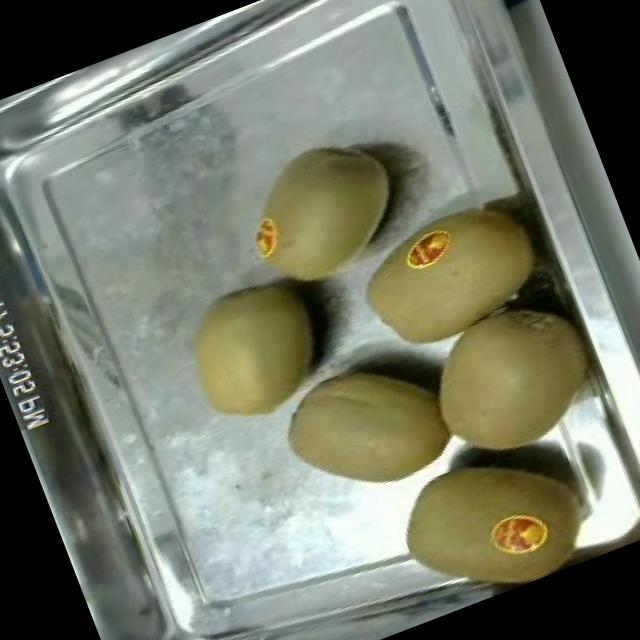Fruit: (334, 174, 570, 371), (402, 287, 616, 486), (370, 424, 580, 622), (261, 332, 474, 527), (216, 120, 423, 310), (160, 258, 349, 448)
